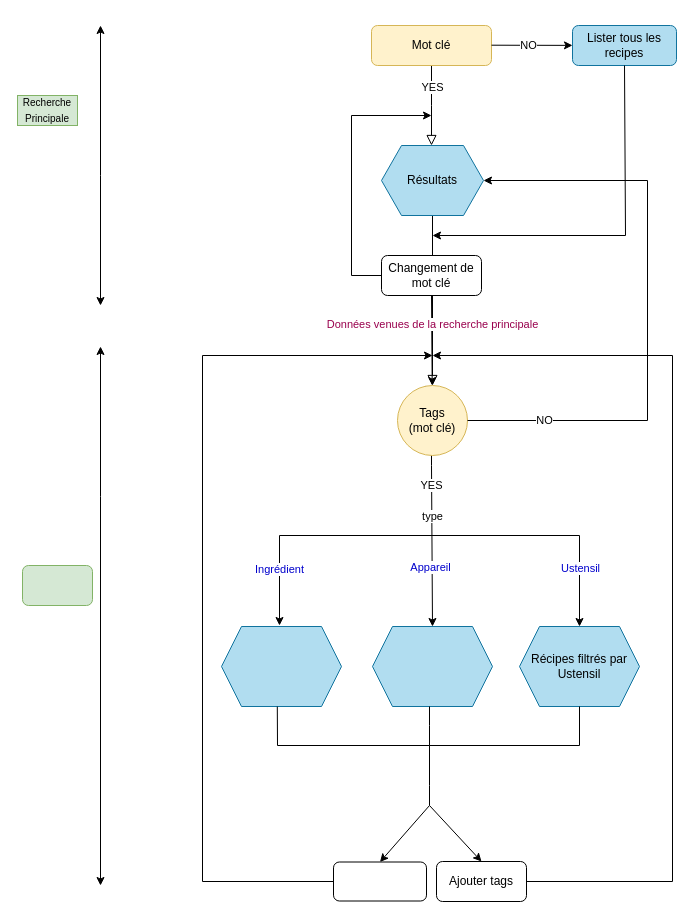
This 698x919 diagram has some shape labels left out. The shapes that lost their labels are listed below. From the top down, each one's box as (x1, y1, x2, y2) in pixels, then its label:
(22, 564, 92, 606): Recherche Avancée
(220, 626, 342, 706): Récipes filtrés par INGRÉDIENT
(372, 626, 492, 706): Récipes filtrés par APPAREIL
(332, 861, 426, 901): Supprimer tags
